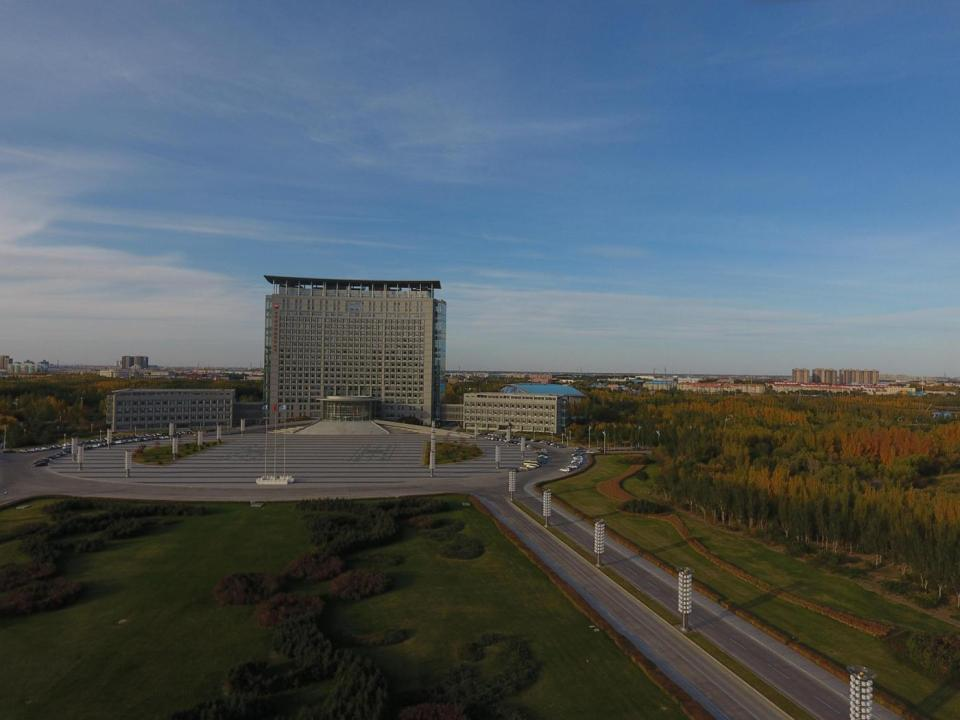bus: (522, 459, 540, 467)
car: (33, 461, 48, 467), (559, 466, 571, 472), (567, 464, 579, 470), (18, 448, 29, 454), (525, 464, 538, 469), (3, 449, 16, 454), (518, 466, 530, 471), (40, 446, 50, 452), (34, 447, 45, 452), (44, 456, 55, 461), (586, 449, 595, 455), (596, 450, 608, 454), (28, 447, 36, 453), (46, 445, 54, 451), (569, 462, 580, 466), (508, 468, 519, 472), (556, 444, 566, 448), (51, 445, 59, 450), (55, 443, 63, 448), (51, 454, 61, 458), (597, 446, 606, 450), (576, 446, 584, 450), (530, 438, 538, 442), (538, 440, 546, 444), (550, 442, 557, 446), (478, 432, 484, 436), (510, 435, 516, 439), (517, 436, 523, 440), (128, 438, 133, 442), (488, 432, 493, 436), (484, 435, 489, 439), (496, 432, 501, 436), (498, 437, 503, 441), (490, 437, 496, 440), (514, 436, 520, 439), (488, 436, 492, 440), (491, 433, 496, 436), (533, 440, 540, 442)
van: (38, 457, 51, 463), (121, 439, 129, 444), (114, 440, 123, 444), (133, 438, 140, 442), (544, 441, 551, 444), (525, 437, 530, 441)
